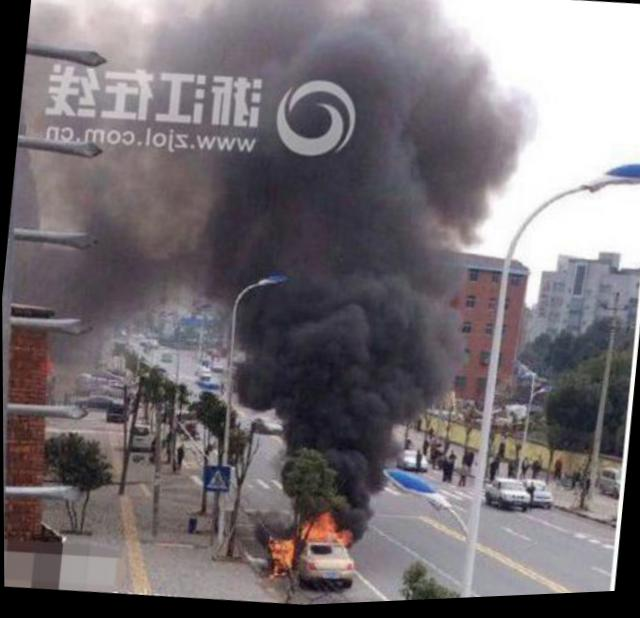fire: (309, 513, 339, 546), (272, 539, 295, 575), (337, 528, 353, 547)
